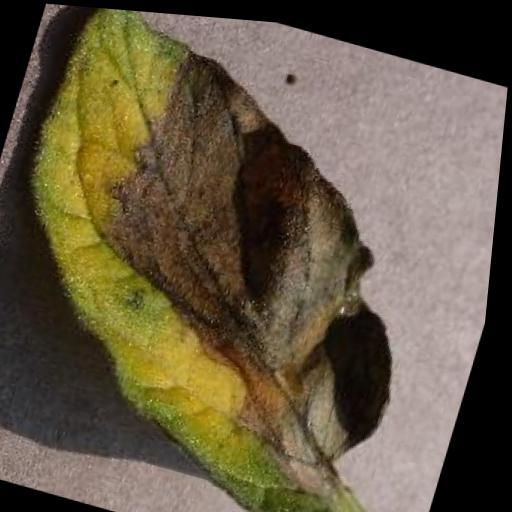Late Blight: (0, 0, 499, 512)
